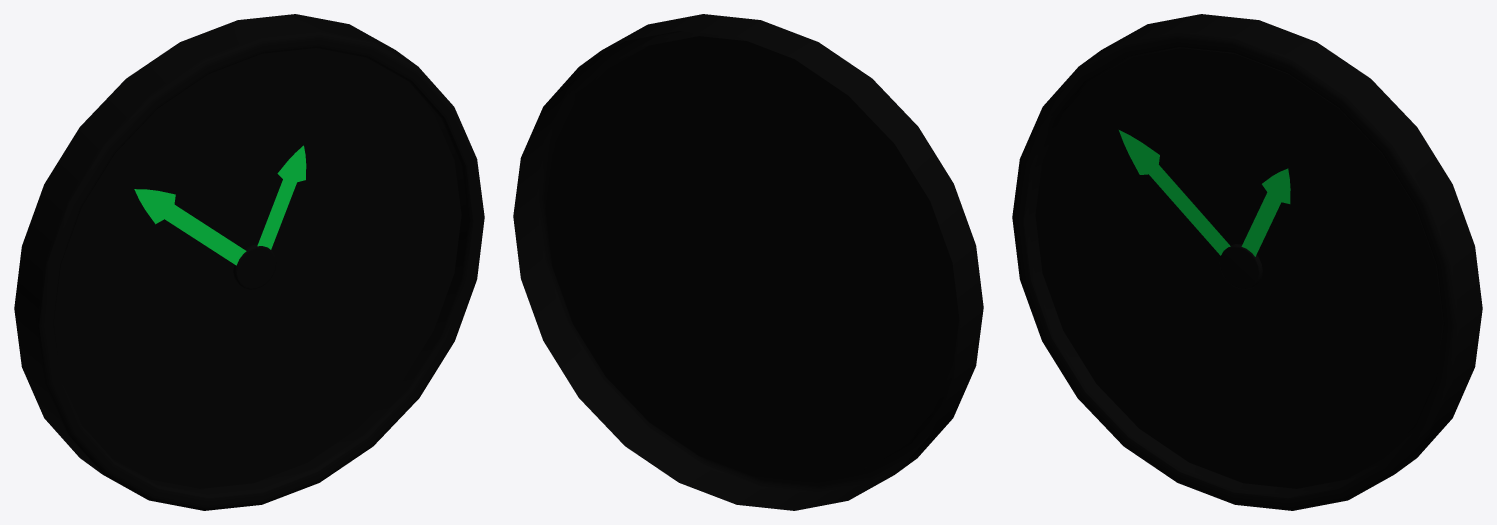
File: WallClock.fbx
3 renders of one model, left to right at view 1: azimuth 30°, elevation 25°; view 2: azimuth 150°, elevation 25°; view 3: azimuth 330°, elevation 25°, orthographic.
Parts seen in each view (by area): view 1: WallClock; view 2: WallClock; view 3: WallClock.
Boxes of the visible parts, bbox=[...] form: WallClock: bbox=[14, 14, 484, 510]; WallClock: bbox=[513, 14, 983, 510]; WallClock: bbox=[1012, 14, 1482, 510].
Bounding box in the file's own units: 20 × 20 × 2.
